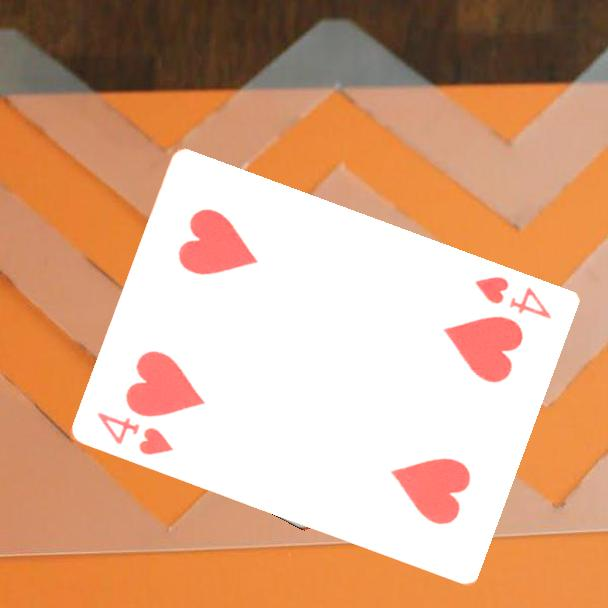h04: (92, 409, 175, 459), (471, 273, 554, 323)
